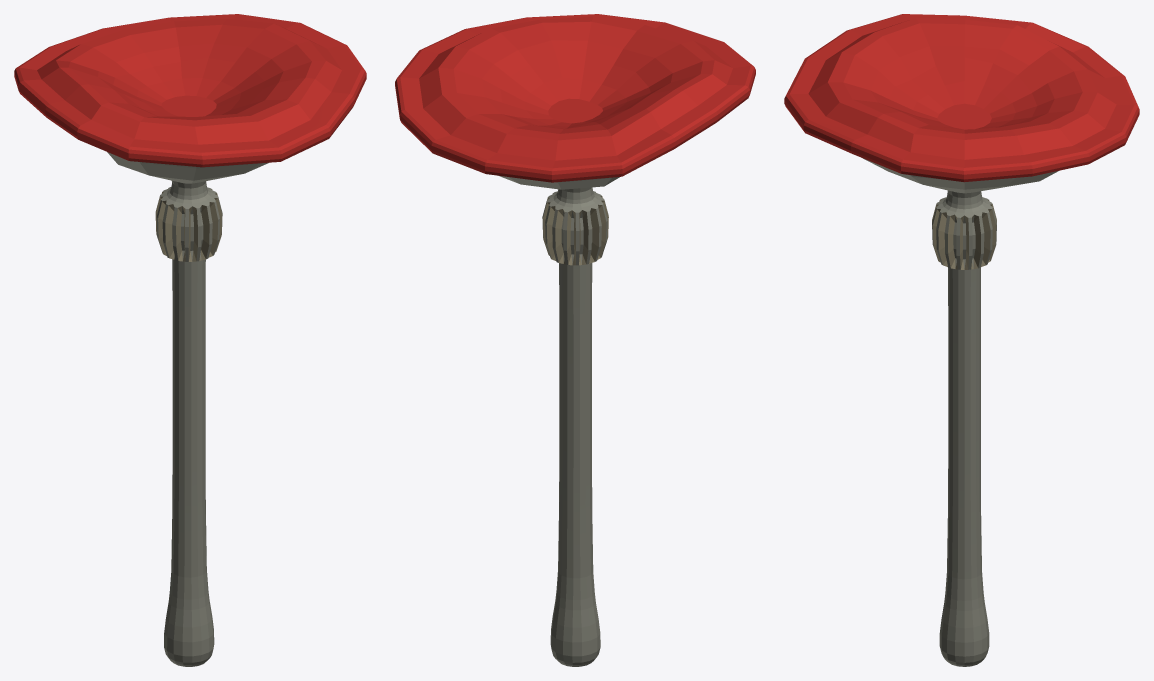
Rendered from mushroom 3.fbx.
3 renders of one model, left to right at view 1: azimuth 30°, elevation 25°; view 2: azimuth 150°, elevation 25°; view 3: azimuth 270°, elevation 25°, orthographic. The views are drawn at different scales.
Visible parts, largest first — view 1: paddo_2_fin; view 2: paddo_2_fin; view 3: paddo_2_fin.
Part boxes in pixels (x1,y1,x2,y2): paddo_2_fin: [14, 14, 366, 666]; paddo_2_fin: [395, 14, 755, 666]; paddo_2_fin: [784, 14, 1139, 666].
Size of the model in its own units: 1703 by 3228 by 1764.
